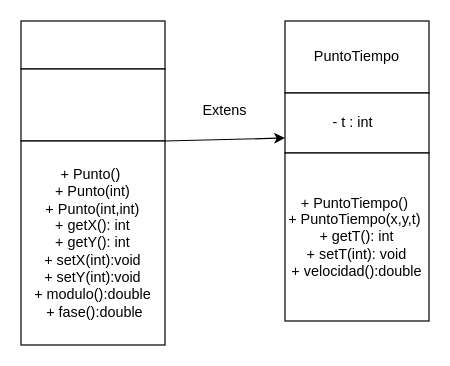
This 450x366 diagram has some shape labels left out. Here are the shapes that lost their labels. From the top down, the centre of each, then its label:
(x=92, y=44): Punto
(x=92, y=104): - x : int - y : int
